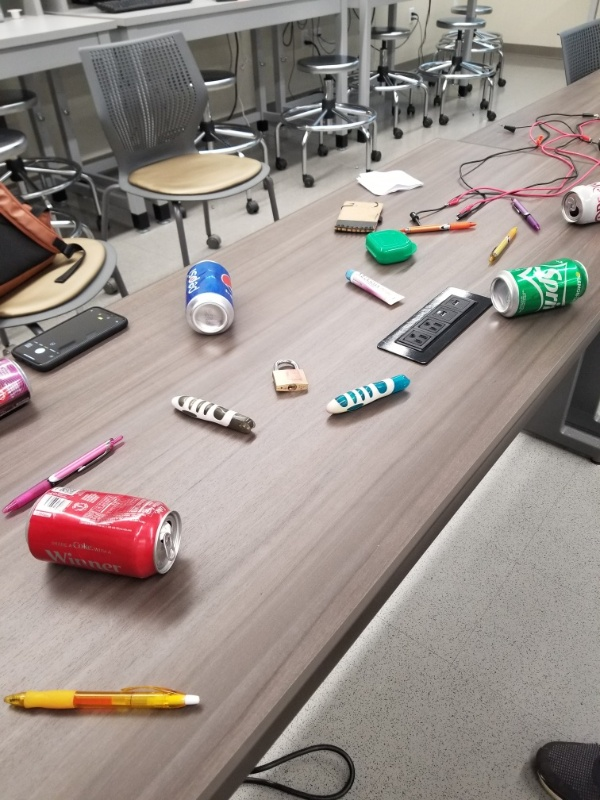can: (19, 483, 189, 584), (489, 255, 591, 324), (173, 252, 246, 341), (1, 355, 41, 422), (558, 174, 600, 230)
